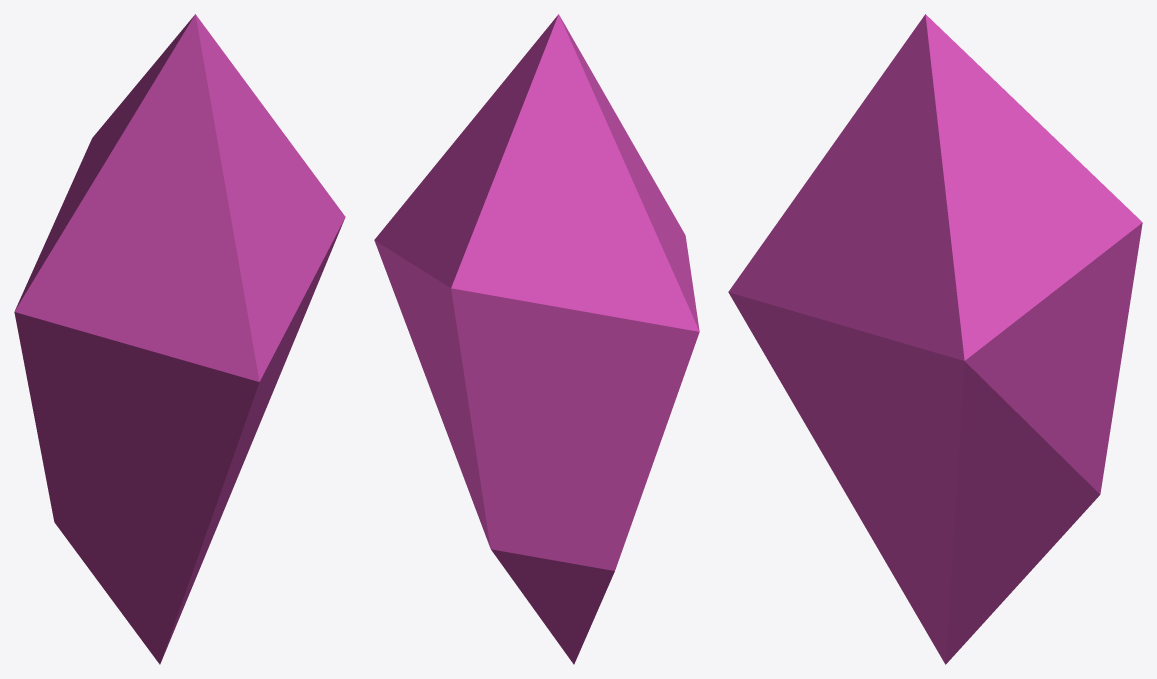
The model's file is Crystal-Item01.fbx.
The picture shows the model from 3 angles, left to right: view 1: azimuth 30°, elevation 25°; view 2: azimuth 150°, elevation 25°; view 3: azimuth 270°, elevation 25°; orthographic projection. The views are drawn at different scales.
Visible parts, largest first — view 1: Crystal-Item01; view 2: Crystal-Item01; view 3: Crystal-Item01.
Boxes of the visible parts, <box> form: Crystal-Item01: <box>14,14,345,664</box>; Crystal-Item01: <box>374,14,699,664</box>; Crystal-Item01: <box>728,14,1142,664</box>.
Bounding box in the file's own units: 42.75 × 80.23 × 45.41.
